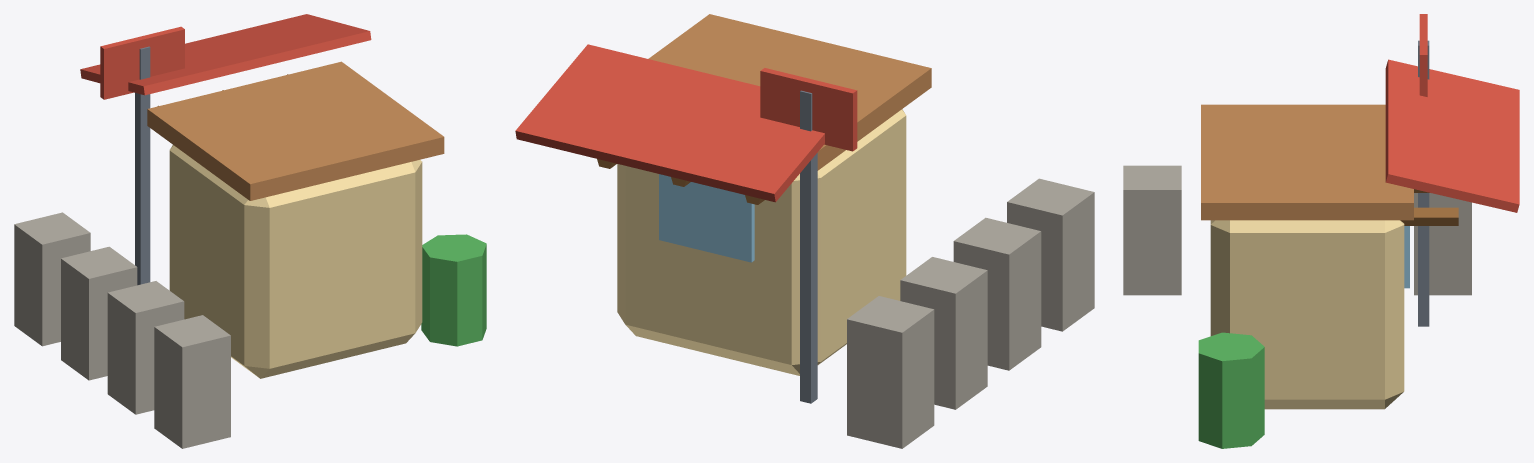
Rendered from checkpoint_adobe.glb.
The picture shows the model from 3 angles, left to right: view 1: azimuth 30°, elevation 25°; view 2: azimuth 150°, elevation 25°; view 3: azimuth 270°, elevation 25°; orthographic projection. The views are drawn at different scales.
Parts seen in each view (by area): view 1: checkpoint_adobe; view 2: checkpoint_adobe; view 3: checkpoint_adobe.
Part boxes in pixels (x1,y1,x2,y2): checkpoint_adobe: (14,14,486,448); checkpoint_adobe: (515,14,1094,448); checkpoint_adobe: (1123,14,1519,448).
Bounding box in the file's own units: 2.18 × 1.65 × 2.05.
Materials: 1 (1 with a texture image).
